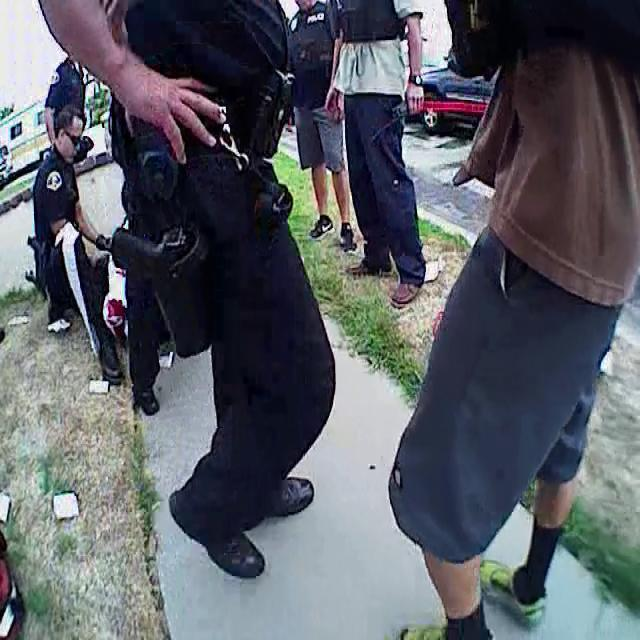gun: (90, 199, 242, 373), (22, 221, 54, 293)
